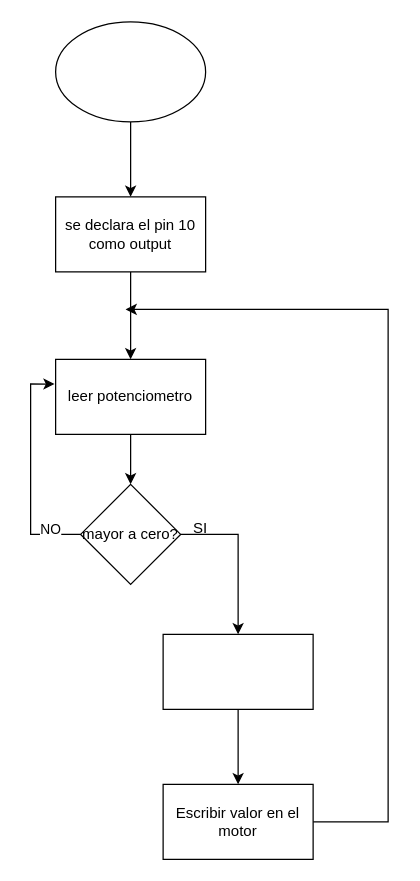
Some shapes in this 420 by 881 pixel diagram are drawn without their labels. The shapes that lost their labels are listed below. From the top down, each one's box as (x1, y1, x2, y2) in pixels, then its label:
(54, 21, 206, 122): inicio
(162, 633, 313, 709): Mapear valores entre 0-1023 del potenciometro a 0-255 del motor
